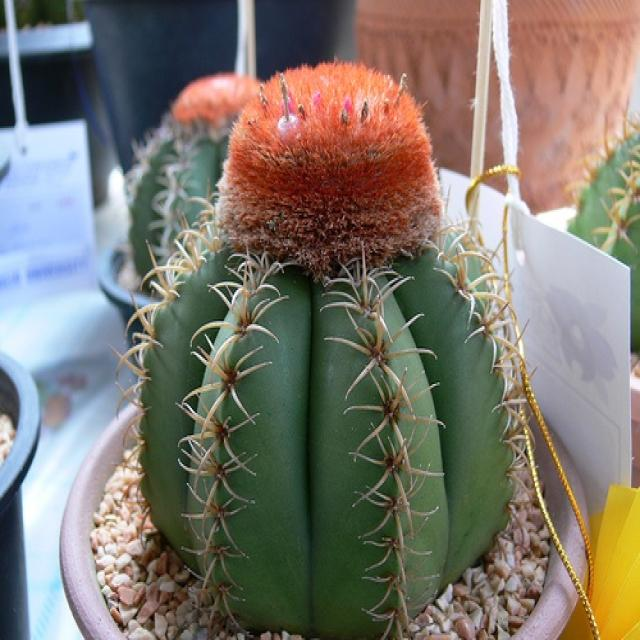pottedplant: (60, 63, 590, 638), (96, 70, 270, 363)
